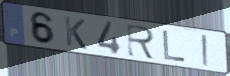4: (95, 20, 123, 56)
6: (28, 11, 58, 47)
I: (200, 33, 211, 69)
K: (62, 15, 88, 51)
L: (161, 29, 187, 63)
R: (125, 23, 158, 62)
